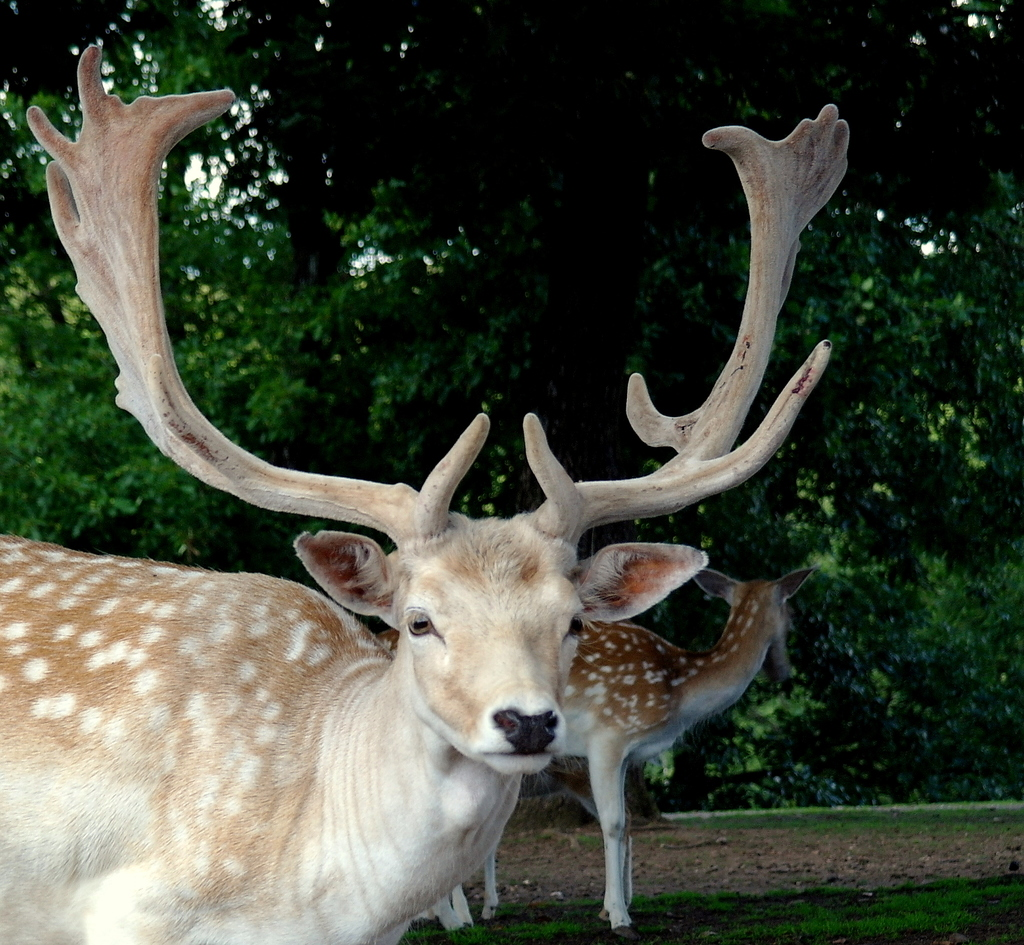Tree: (0, 0, 1023, 799)
